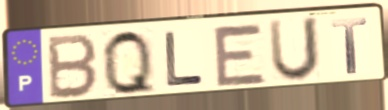B: (47, 33, 100, 102)
E: (211, 22, 270, 89)
L: (163, 30, 206, 90)
Q: (100, 27, 159, 97)
T: (329, 16, 370, 76)
U: (266, 15, 322, 85)
